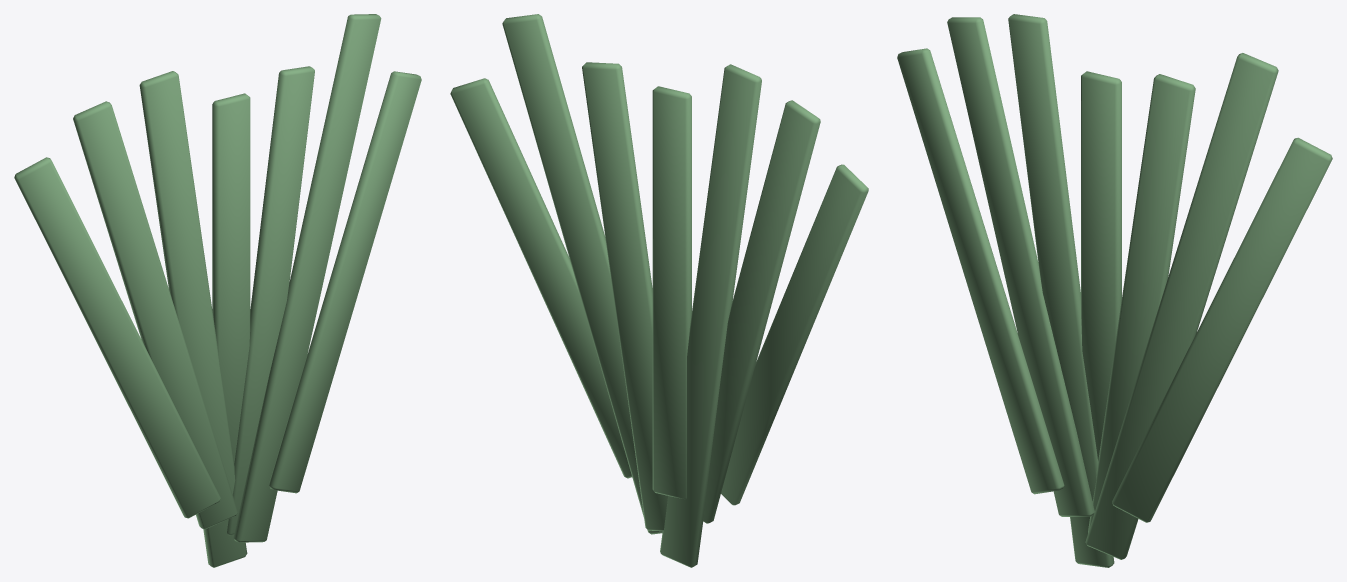
Rendered from foliage_grass_a.glb.
The picture shows the model from 3 angles, left to right: view 1: azimuth 30°, elevation 25°; view 2: azimuth 150°, elevation 25°; view 3: azimuth 330°, elevation 25°; orthographic projection. The views are drawn at different scales.
Parts seen in each view (by area): view 1: FoliageGrassA; view 2: FoliageGrassA; view 3: FoliageGrassA.
Boxes of the visible parts, x1=… form: FoliageGrassA: x1=14, y1=14, x2=421, y2=567; FoliageGrassA: x1=450, y1=14, x2=868, y2=567; FoliageGrassA: x1=897, y1=14, x2=1332, y2=567.
Size of the model in its own units: 0.322 by 0.3858 by 0.0469.
